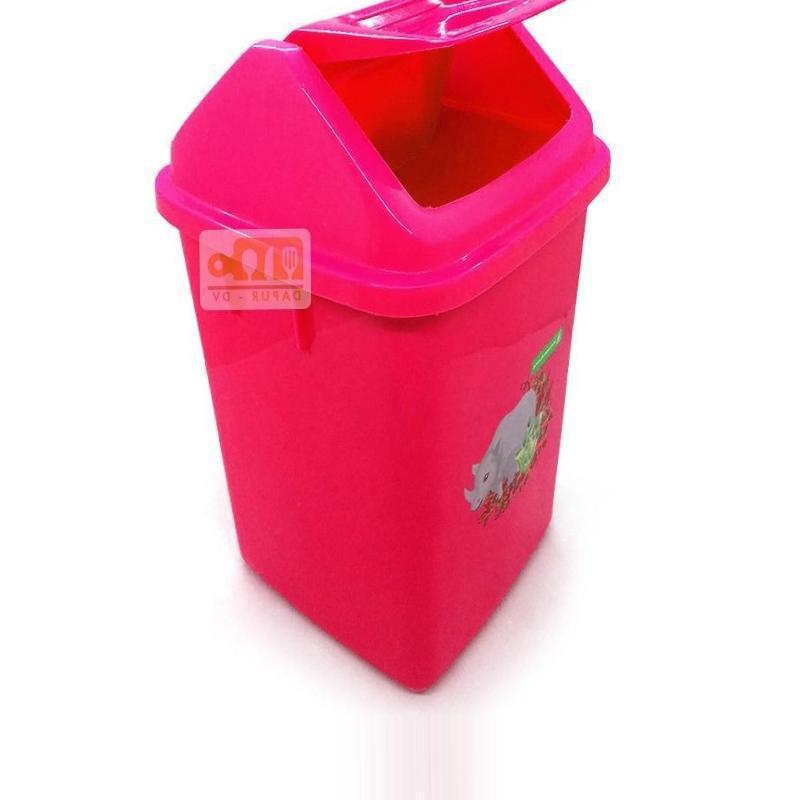Bote de Basura: (170, 0, 580, 694)
